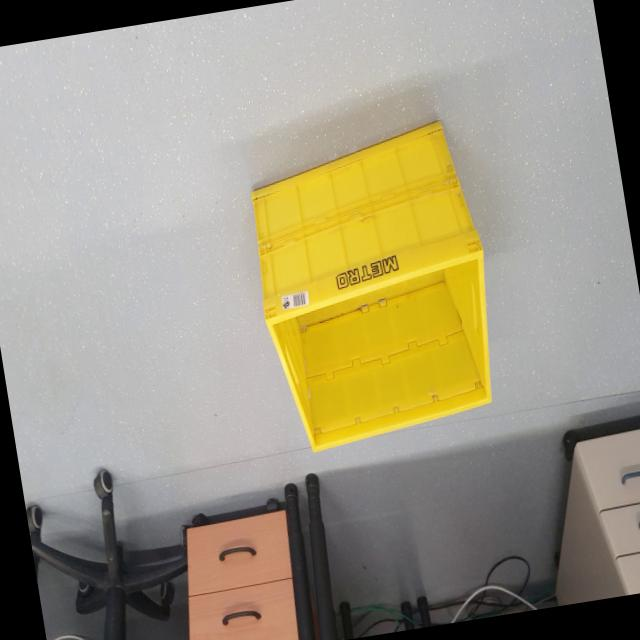box: (237, 111, 519, 462)
